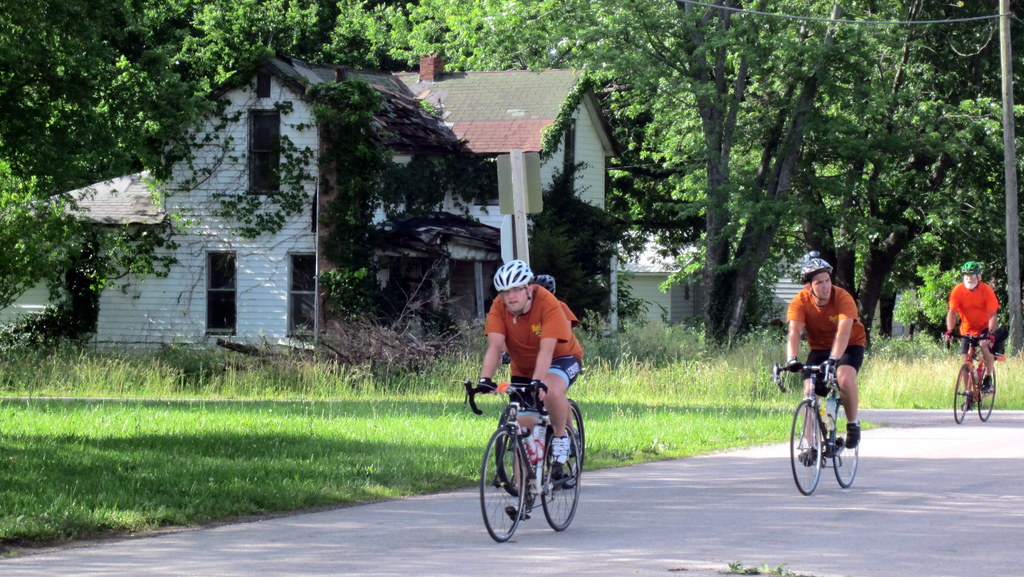Bike: (393, 376, 604, 544)
